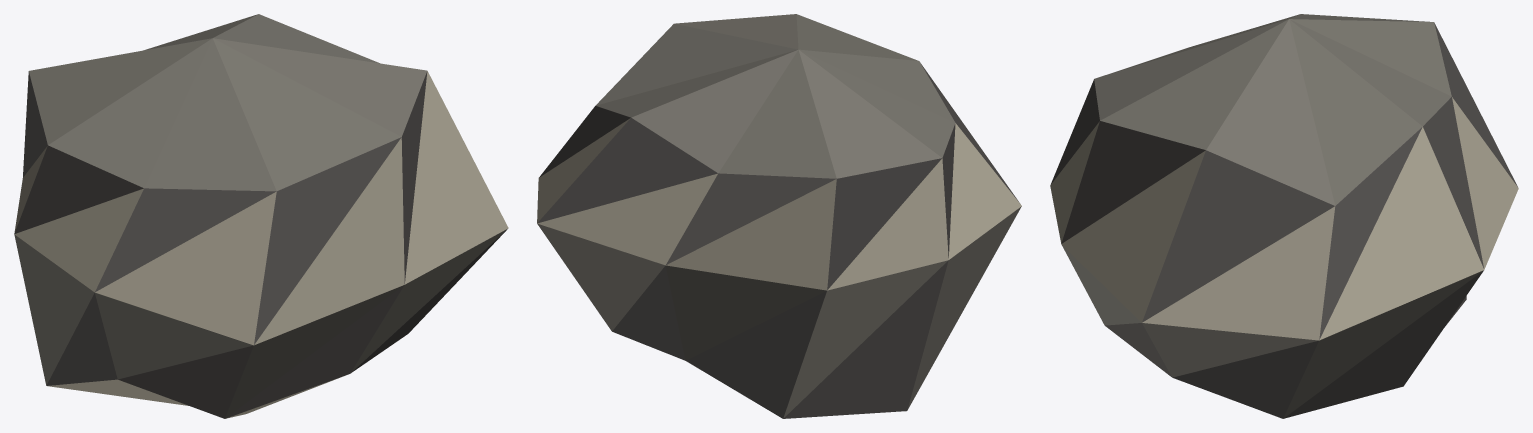
File: StoneOre.fbx
The picture shows the model from 3 angles, left to right: view 1: azimuth 30°, elevation 25°; view 2: azimuth 150°, elevation 25°; view 3: azimuth 270°, elevation 25°; orthographic projection. The views are drawn at different scales.
Parts seen in each view (by area): view 1: StoneOre_Mesh; view 2: StoneOre_Mesh; view 3: StoneOre_Mesh.
Boxes of the visible parts, bbox=[...] form: StoneOre_Mesh: bbox=[14, 14, 508, 418]; StoneOre_Mesh: bbox=[537, 14, 1021, 418]; StoneOre_Mesh: bbox=[1050, 14, 1518, 418].
Size of the model in its own units: 0.55 by 0.45 by 0.5.
